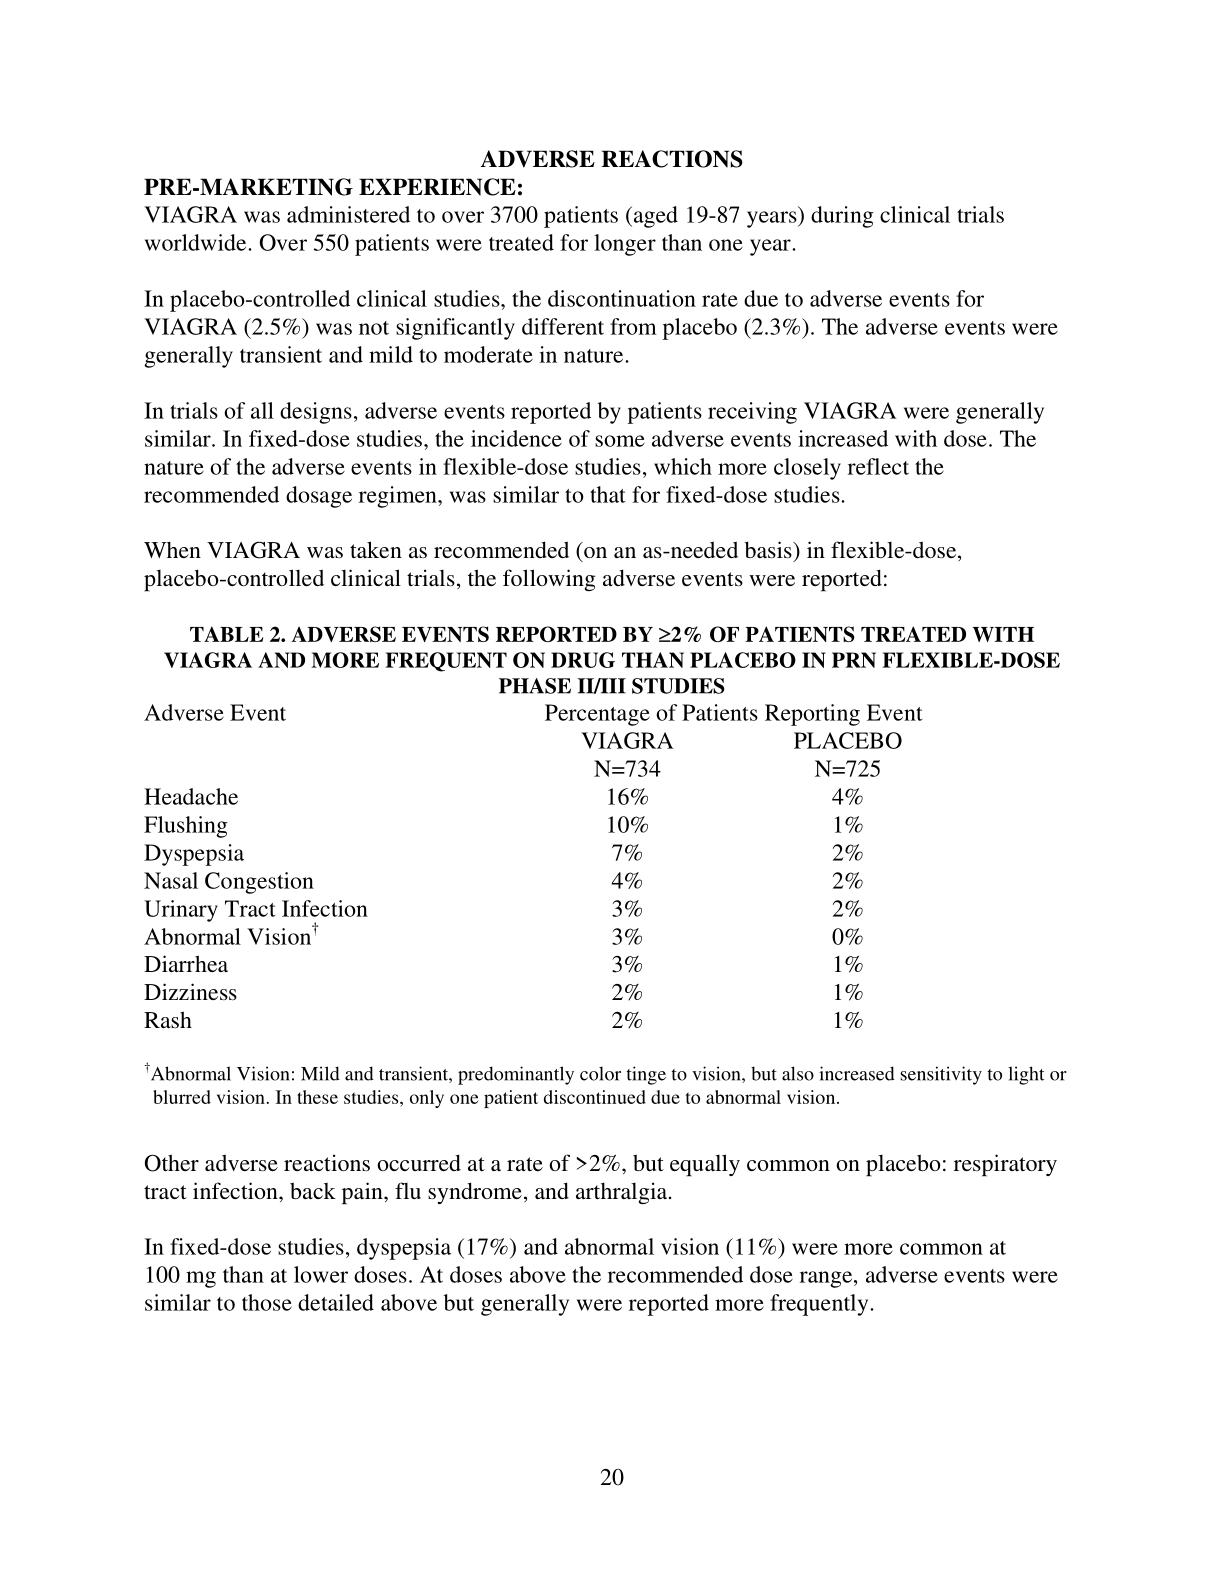nolines: (141, 699, 926, 1034)
